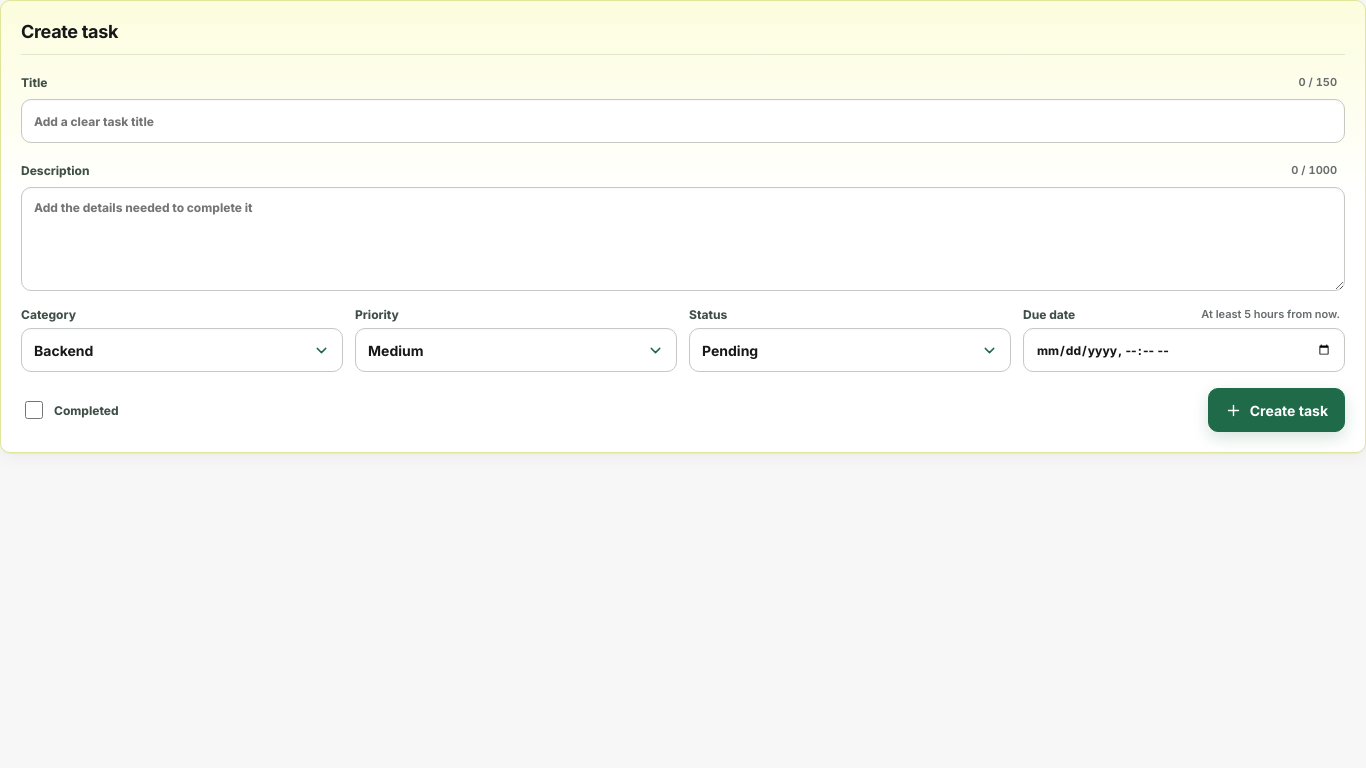
TaskForm › keeps the completed checkbox and status selector in sync
The image size is (1366, 768).
Click the dropdown named "Status" at coordinates (730, 350), box [689,328,1011,372]
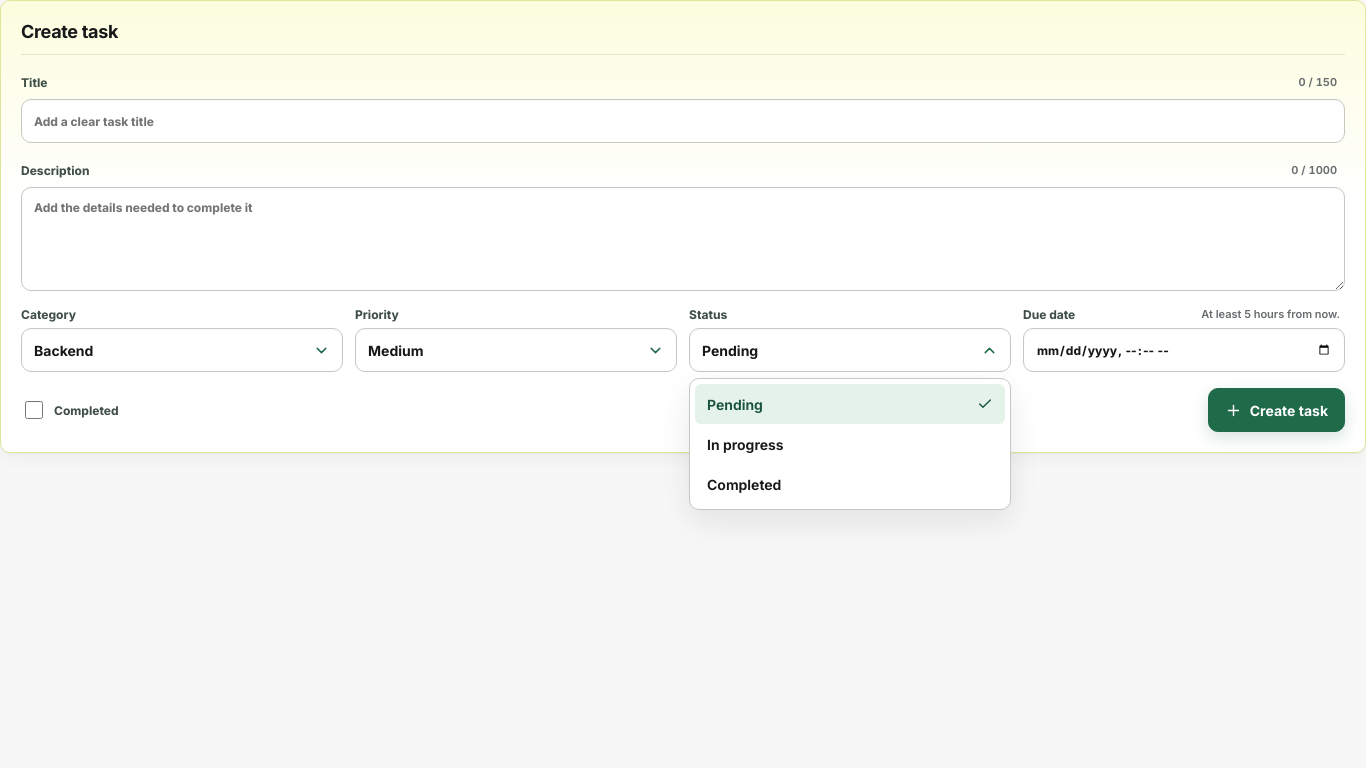
Click the option "Completed" at coordinates (744, 484), box [707,476,781,492]
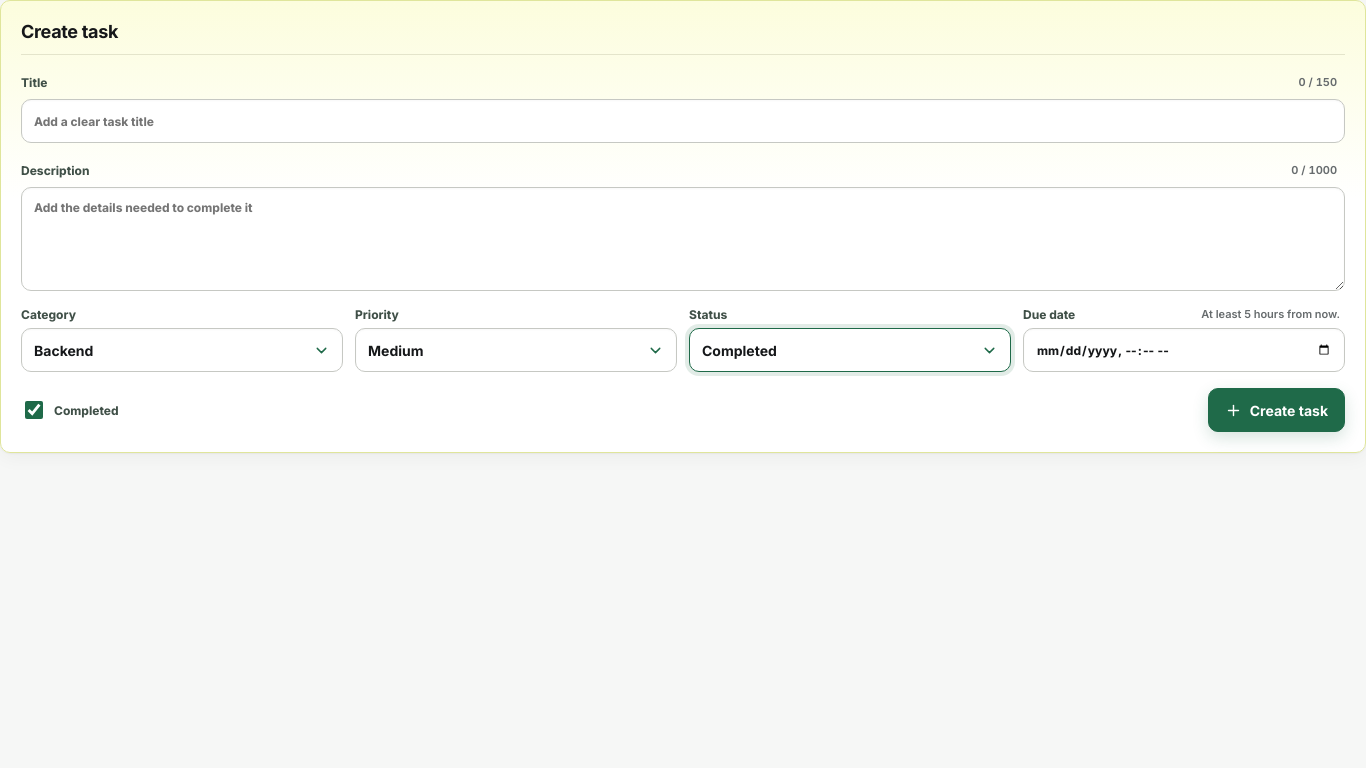
Now the checkbox labelled "Completed" is checked
Click the checkbox labelled "Completed" at coordinates (34, 410), box [25,401,43,419]
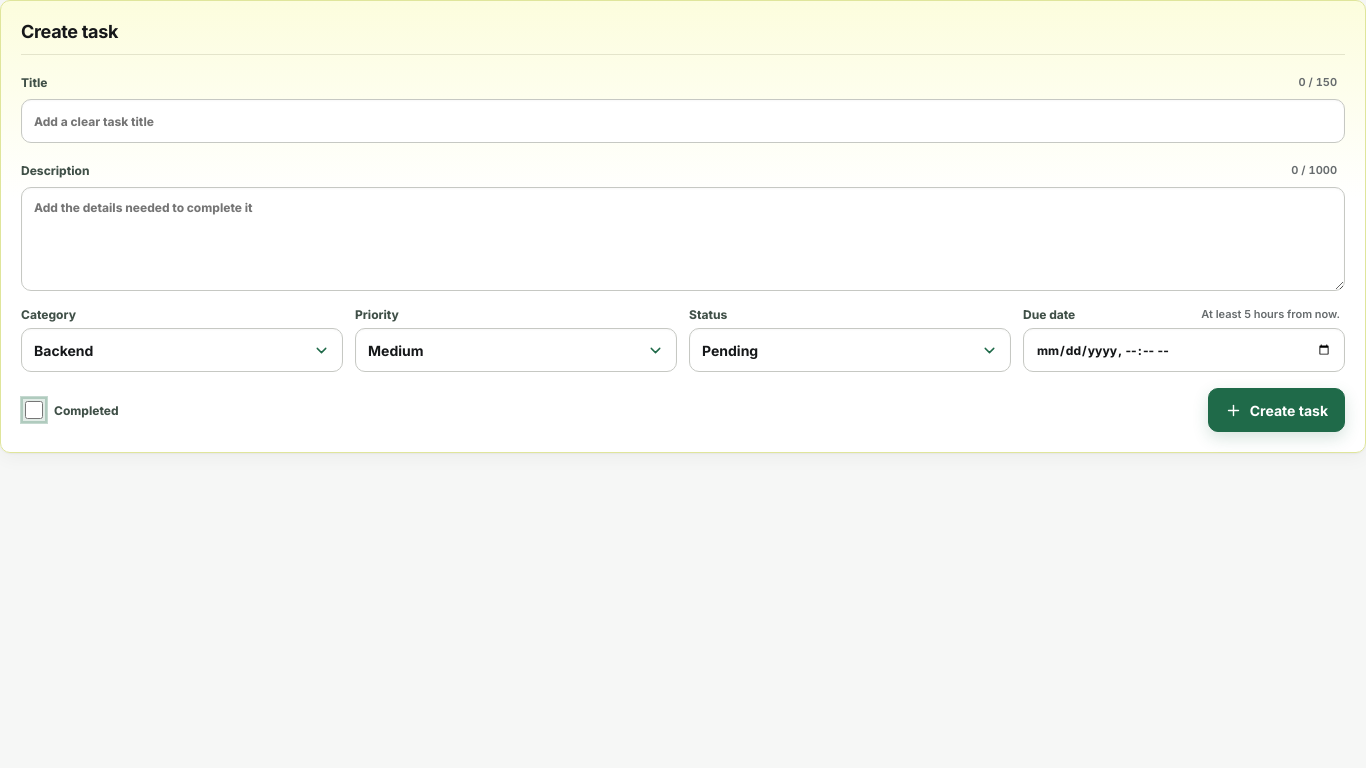
Now the checkbox labelled "Completed" is not checked
Now the dropdown named "Status" reads "Pending", box [689,328,1011,372]
Click the checkbox labelled "Completed" at coordinates (34, 410), box [25,401,43,419]
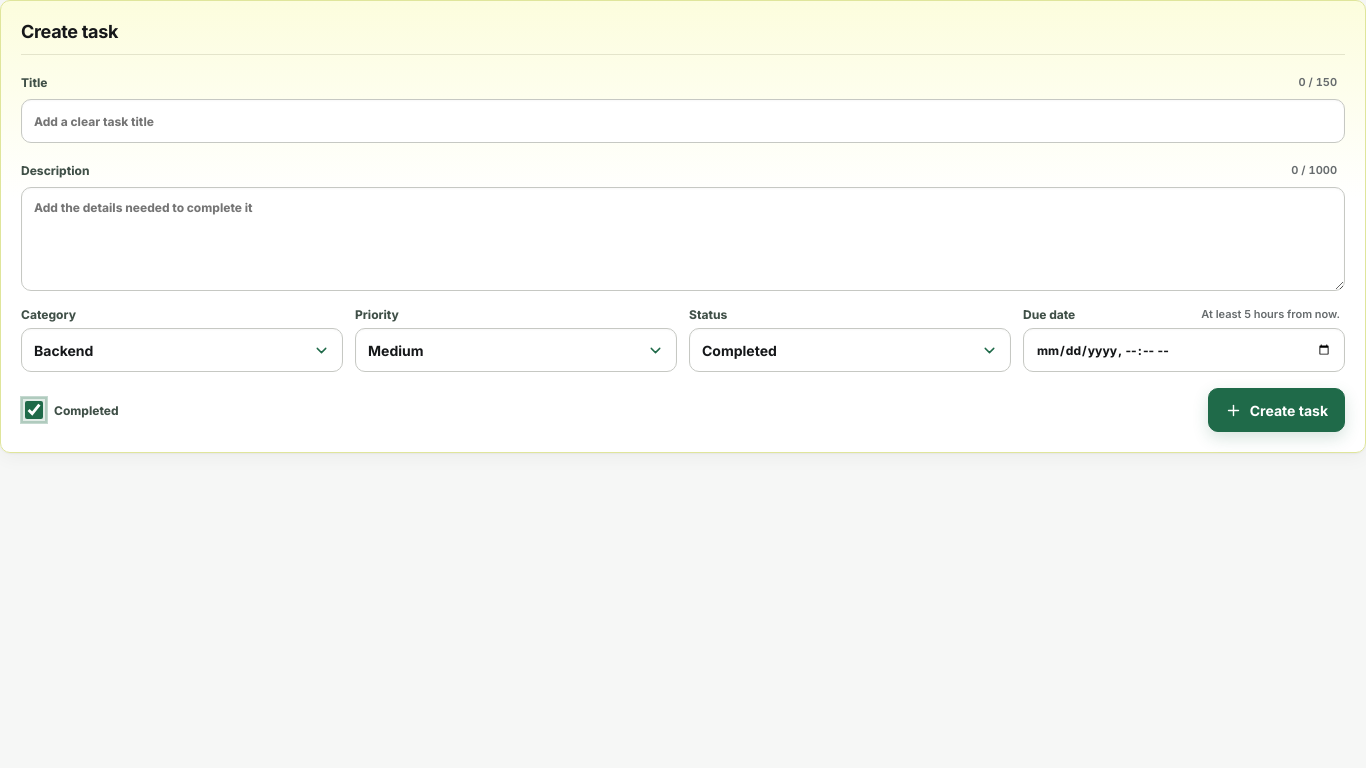
Now the checkbox labelled "Completed" is checked, box [25,401,43,419]
Now the dropdown named "Status" reads "Completed", box [689,328,1011,372]
